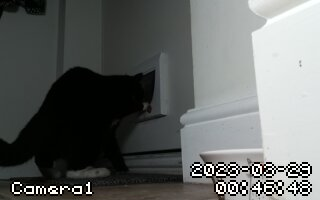bad: (5, 58, 155, 190)
